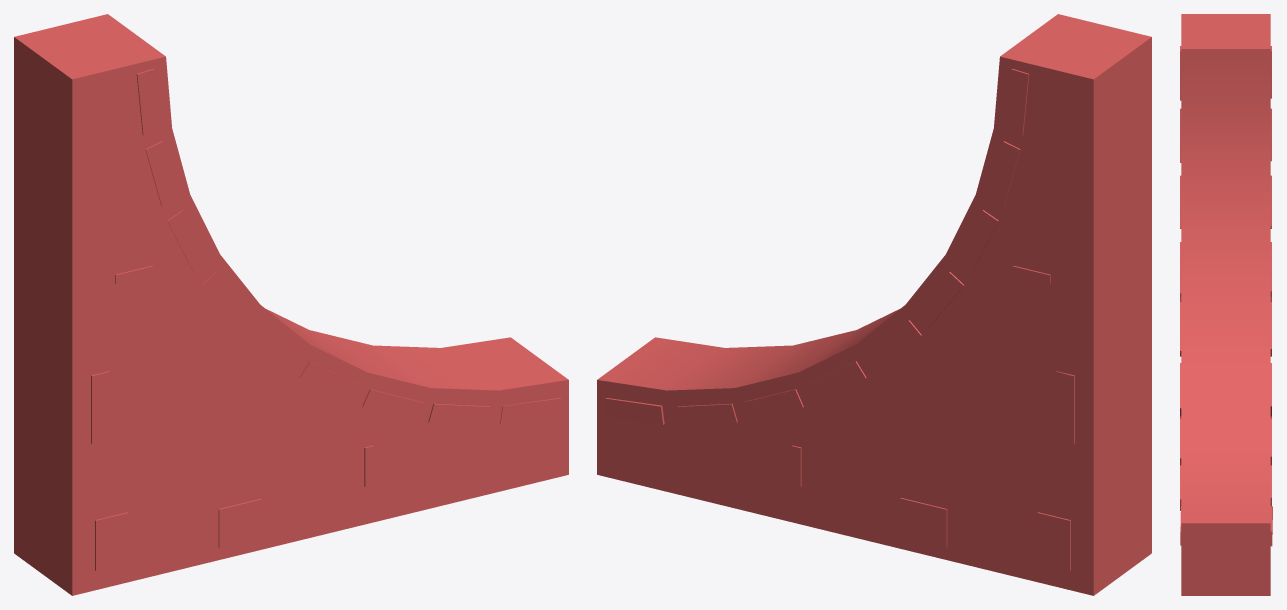
The model's file is Slope3Color.fbx.
3 renders of one model, left to right at view 1: azimuth 30°, elevation 25°; view 2: azimuth 150°, elevation 25°; view 3: azimuth 270°, elevation 25°, orthographic. The views are drawn at different scales.
Parts seen in each view (by area): view 1: polySurface489; view 2: polySurface489; view 3: polySurface489.
Part boxes in pixels (x1,y1,x2,y2): polySurface489: [14, 14, 568, 595]; polySurface489: [597, 14, 1151, 595]; polySurface489: [1180, 14, 1272, 595].
Bounding box in the file's own units: 4.88 × 4.85 × 1.03.
